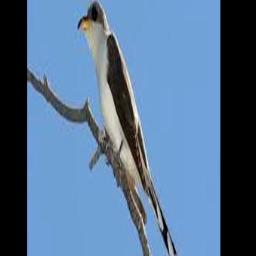Cuckoo: (78, 0, 181, 256)
